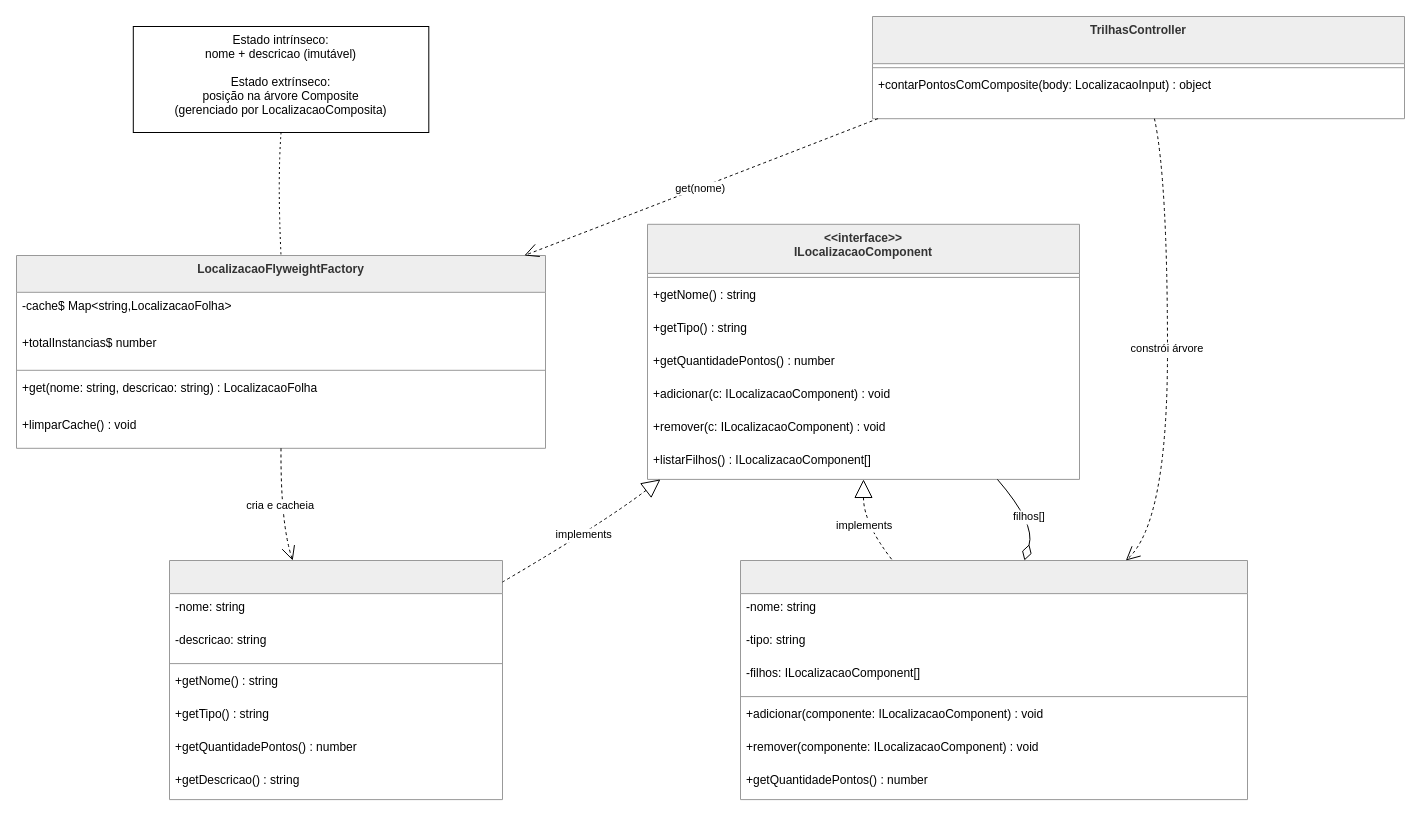
Image size: 1421x816. Some labels were removed from this diagram. The shapes that lost their labels are listed below. From the top down, each one's box as (x1, y1, x2, y2) in pixels, then its label:
(168, 560, 502, 800): LocalizacaoFolha
(740, 560, 1248, 800): LocalizacaoComposita
